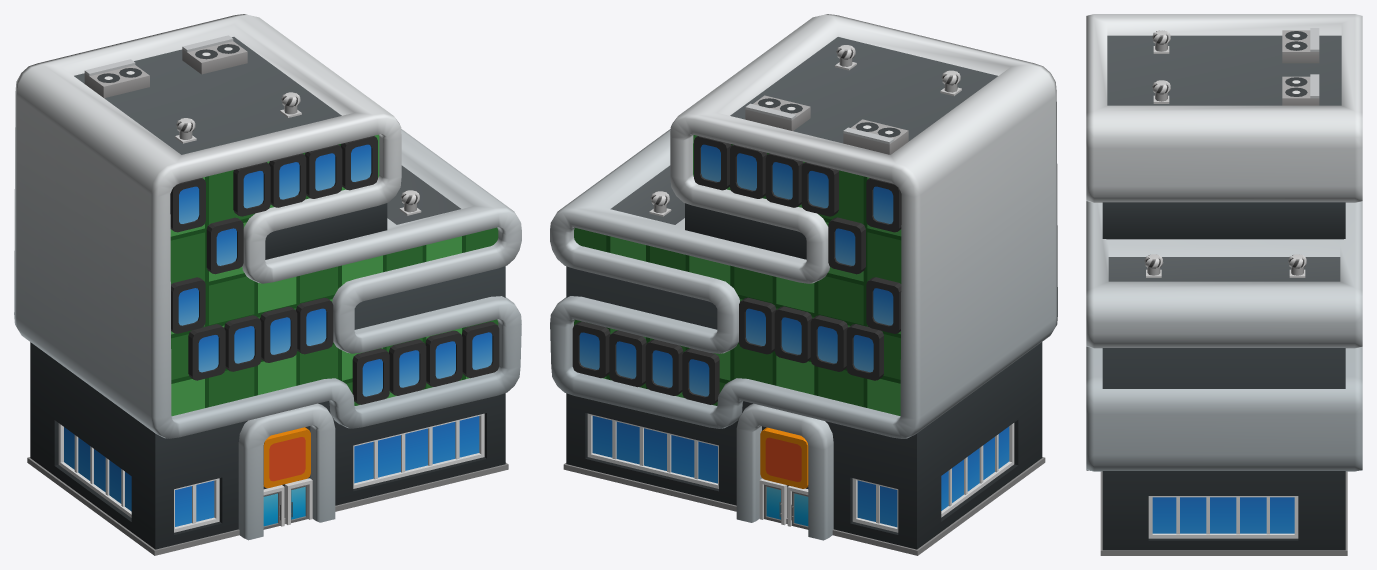
File: elite_residental_building_003.glb
The picture shows the model from 3 angles, left to right: view 1: azimuth 30°, elevation 25°; view 2: azimuth 150°, elevation 25°; view 3: azimuth 270°, elevation 25°; orthographic projection. The views are drawn at different scales.
Visible parts, largest first — view 1: elite_residental_building_003; view 2: elite_residental_building_003; view 3: elite_residental_building_003.
Boxes of the visible parts, x1,y1,x2,y2 form: elite_residental_building_003: [14, 14, 521, 555]; elite_residental_building_003: [550, 14, 1057, 555]; elite_residental_building_003: [1086, 14, 1362, 555].
Size of the model in its own units: 23.75 by 24.47 by 15.92.
Materials: 2 (2 with a texture image).
